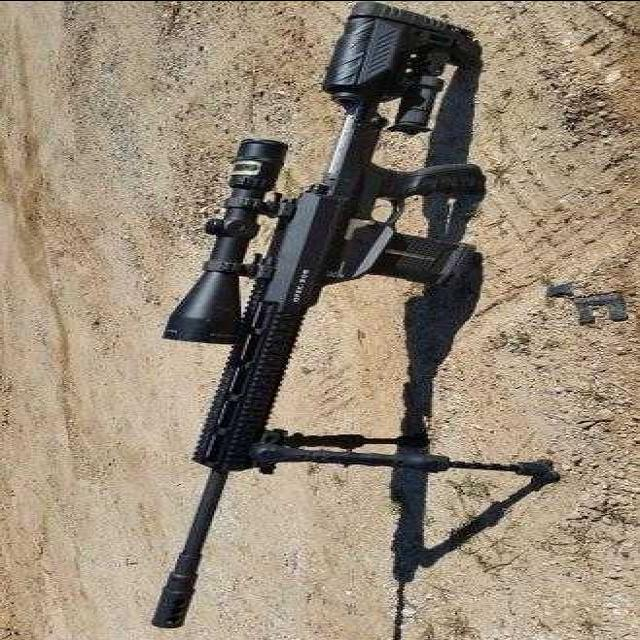heavyweapon: (122, 1, 602, 635)
